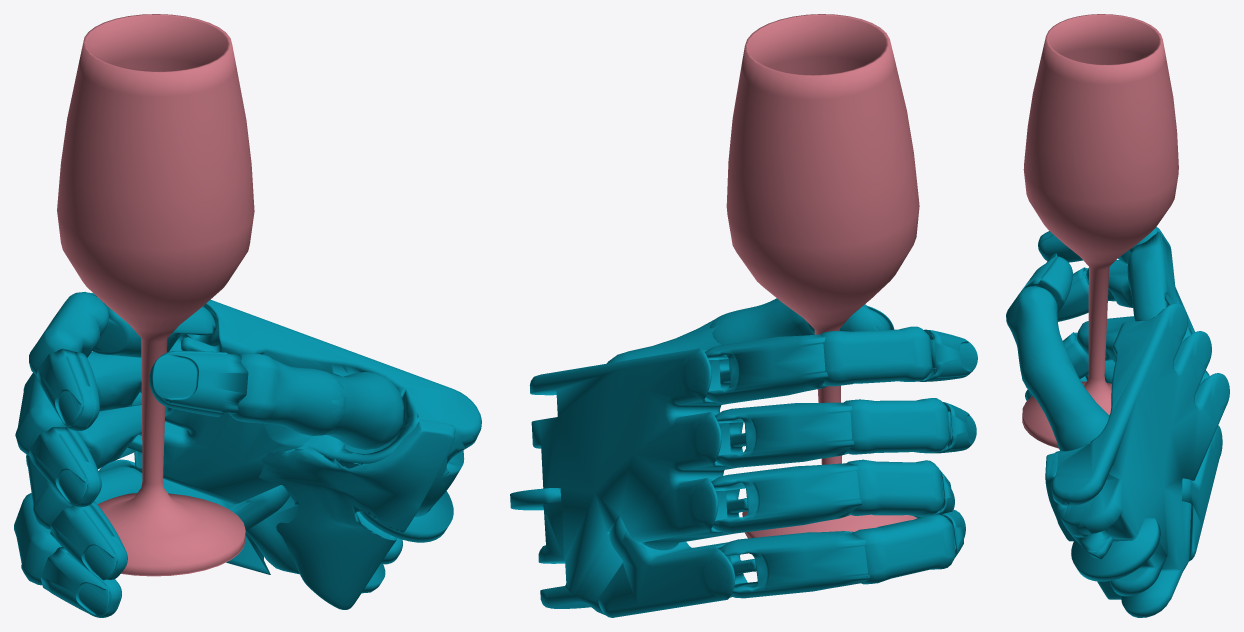
3 renders of one model, left to right at view 1: azimuth 30°, elevation 25°; view 2: azimuth 150°, elevation 25°; view 3: azimuth 270°, elevation 25°, orthographic. The views are drawn at different scales.
Visible parts, largest first — view 1: world; view 2: world; view 3: world.
Boxes of the visible parts, x1,y1,x2,y2 form: world: (14,14,481,617); world: (510,14,977,617); world: (1006,14,1229,617).
Bounding box in the file's own units: 0.1681 × 0.2259 × 0.0939.
